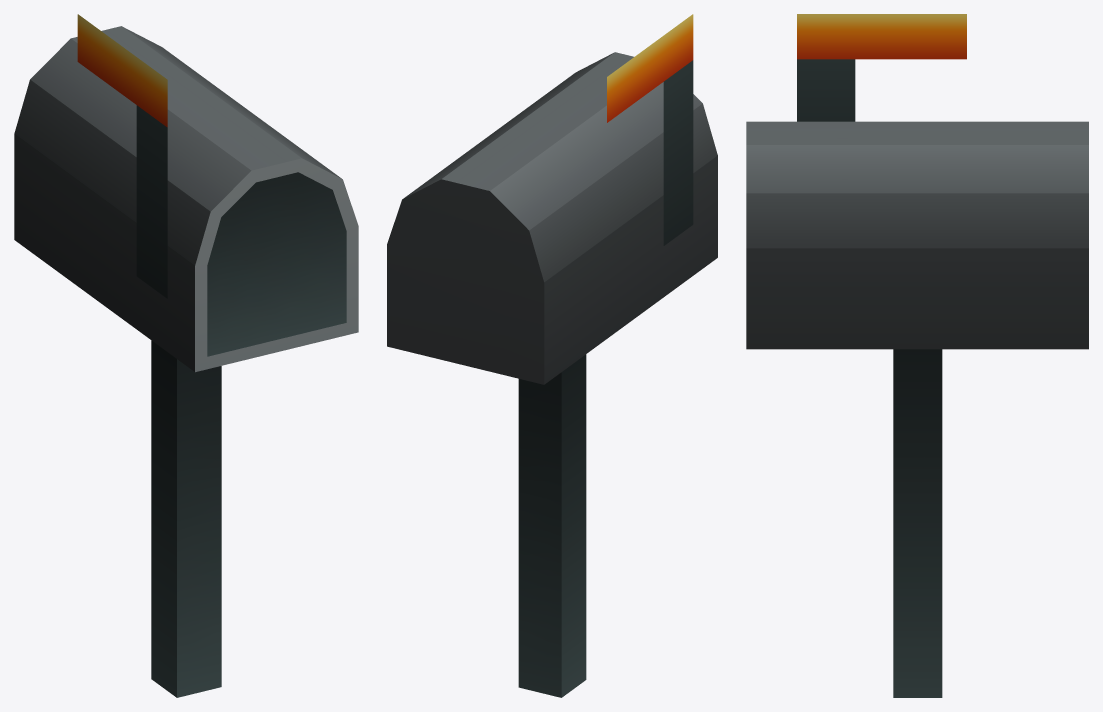
Rendered from Mailbox_1A.fbx.
3 renders of one model, left to right at view 1: azimuth 30°, elevation 25°; view 2: azimuth 150°, elevation 25°; view 3: azimuth 270°, elevation 25°, orthographic. The views are drawn at different scales.
Visible parts, largest first — view 1: Mailbox_1A; view 2: Mailbox_1A; view 3: Mailbox_1A.
Part boxes in pixels (x1=…): Mailbox_1A: x1=14, y1=14, x2=358, y2=697; Mailbox_1A: x1=387, y1=14, x2=717, y2=697; Mailbox_1A: x1=746, y1=14, x2=1088, y2=697.
Size of the model in its own units: 0.5212 by 2.03 by 0.9922.
